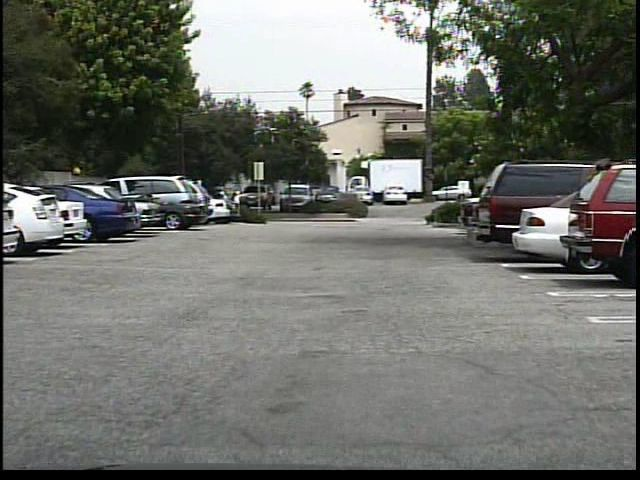person: (215, 188, 232, 219), (229, 192, 242, 221), (225, 190, 237, 219)
